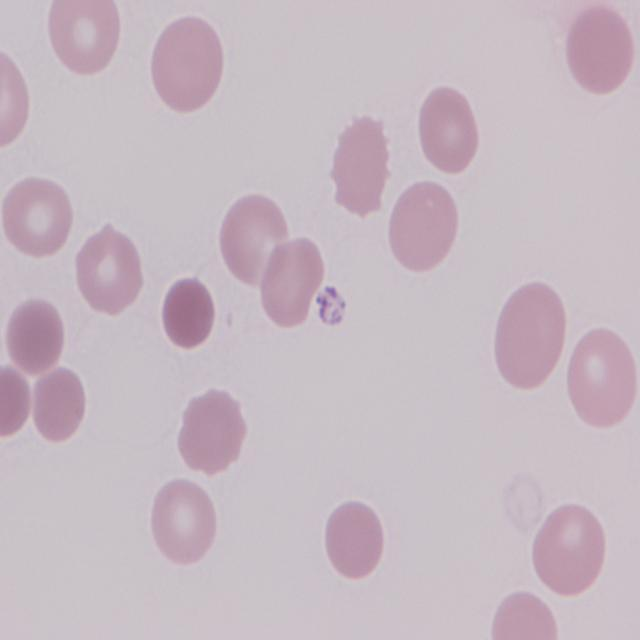RBC: (489, 277, 567, 390), (144, 8, 226, 114), (566, 325, 640, 434), (218, 185, 293, 288), (528, 501, 607, 598), (386, 178, 461, 278), (564, 1, 638, 101), (70, 220, 144, 314), (172, 386, 247, 478), (325, 112, 389, 218), (0, 171, 75, 261), (256, 232, 326, 328), (145, 474, 218, 566), (416, 80, 482, 178), (43, 0, 122, 77), (321, 497, 386, 580), (486, 588, 560, 640), (0, 46, 30, 156)
Spherocyte: (0, 294, 66, 377), (27, 366, 89, 446), (156, 274, 216, 348), (0, 362, 34, 437)
